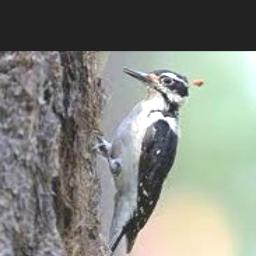Woodpecker: (92, 67, 204, 256)
